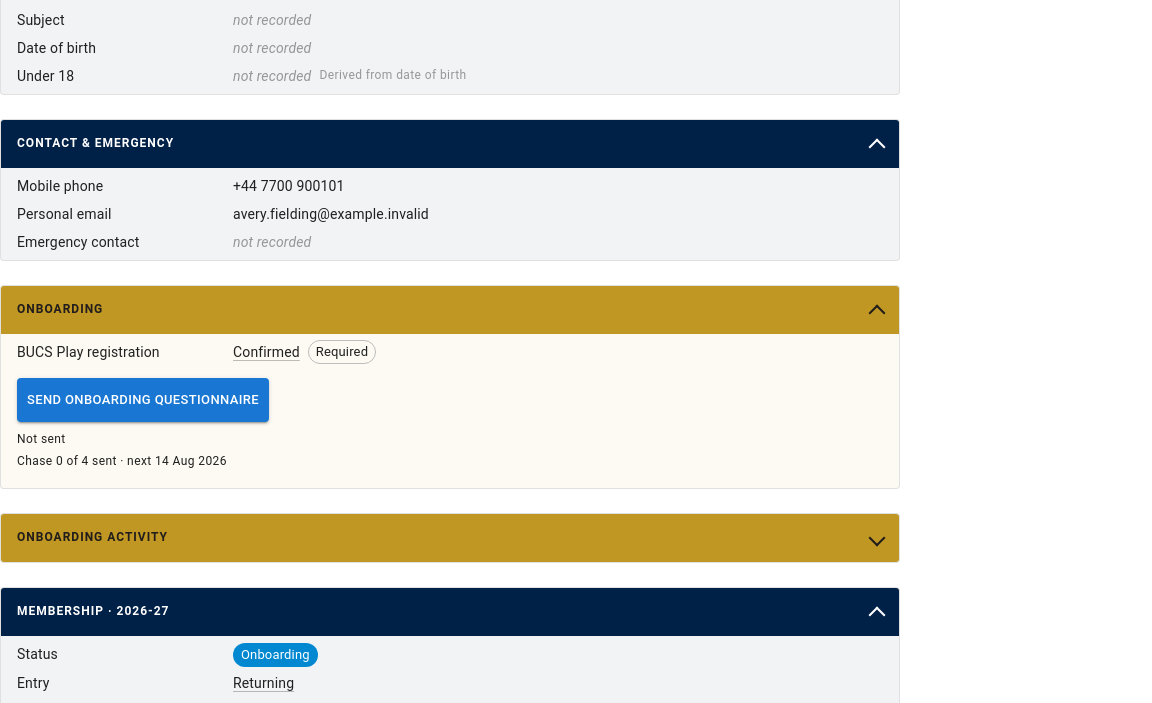
Test: W6 — the resolve control offers each item's own states, nothing else › offers BUCS Play's own four states, never Waived, Not applicable or Reopen
(page scrolled)
Click the element with test id "editable-field" showing "Confirmed".
click(266, 352)  # box x1=229 y1=342 x2=304 y2=362
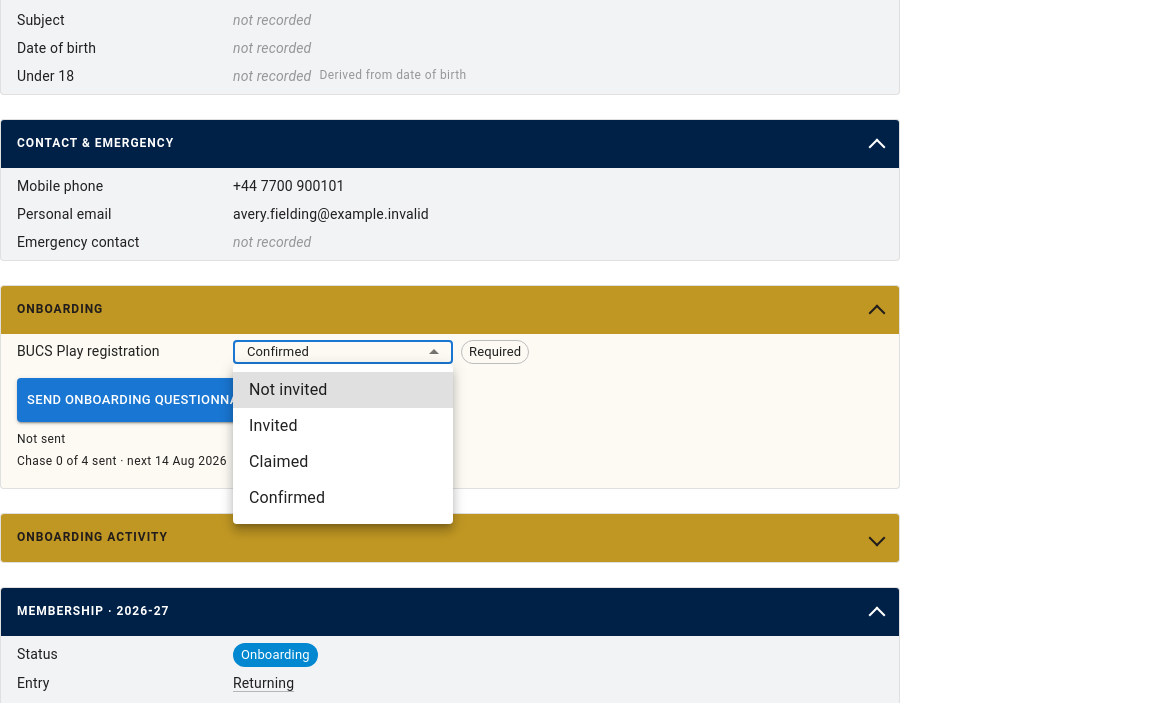
expect the option "Confirmed" is shown: met, box x1=249 y1=488 x2=325 y2=507
expect the option "Invited" is shown: met, box x1=249 y1=416 x2=298 y2=435
expect the option "Claimed" is shown: met, box x1=249 y1=452 x2=308 y2=471
